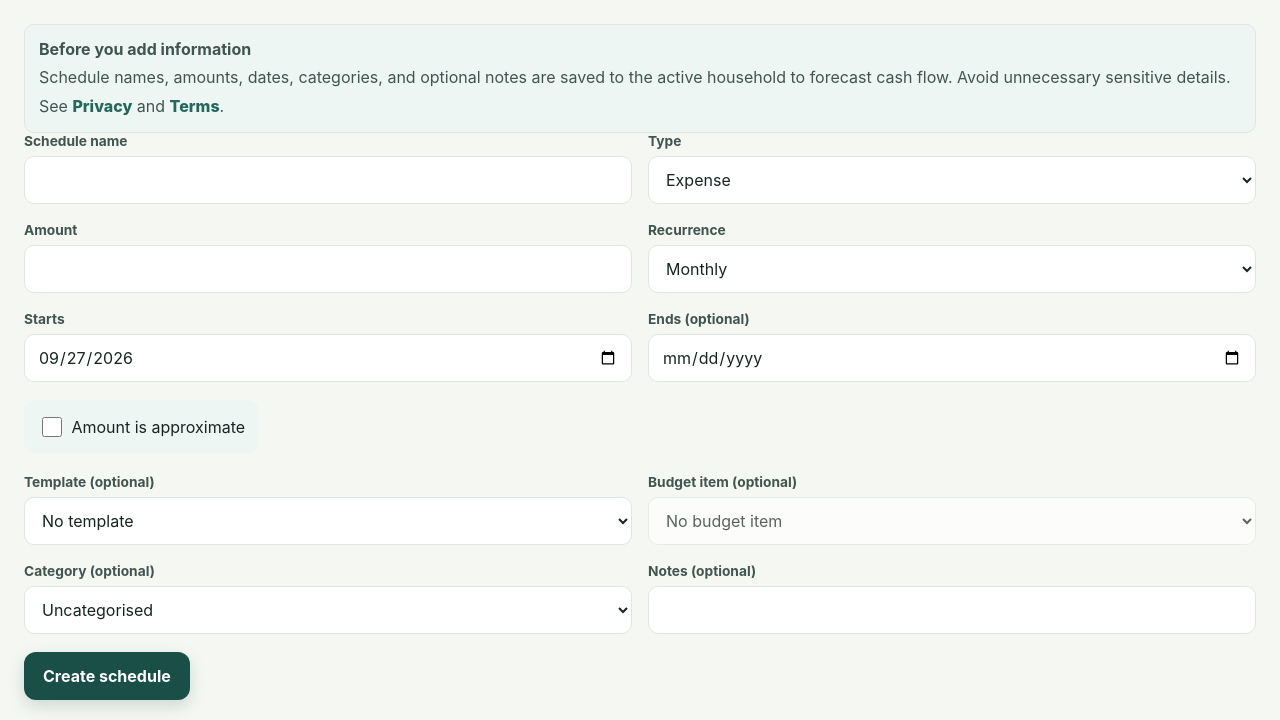
Test case: ScheduleForm › rejects a new schedule starting before today
Type "Old bill" into the field labelled "Schedule name" at (328, 180), box [24,156,632,204]
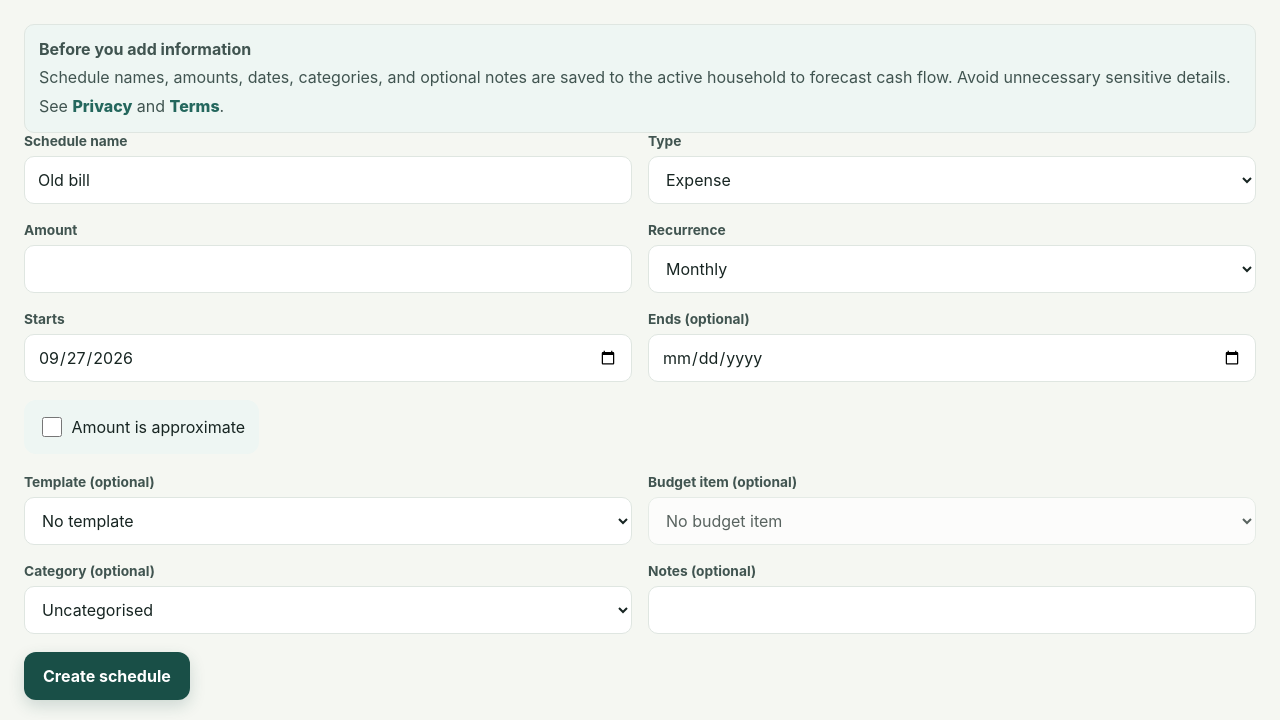
Type "25" into the field labelled "Amount" at (328, 269), box [24,245,632,293]
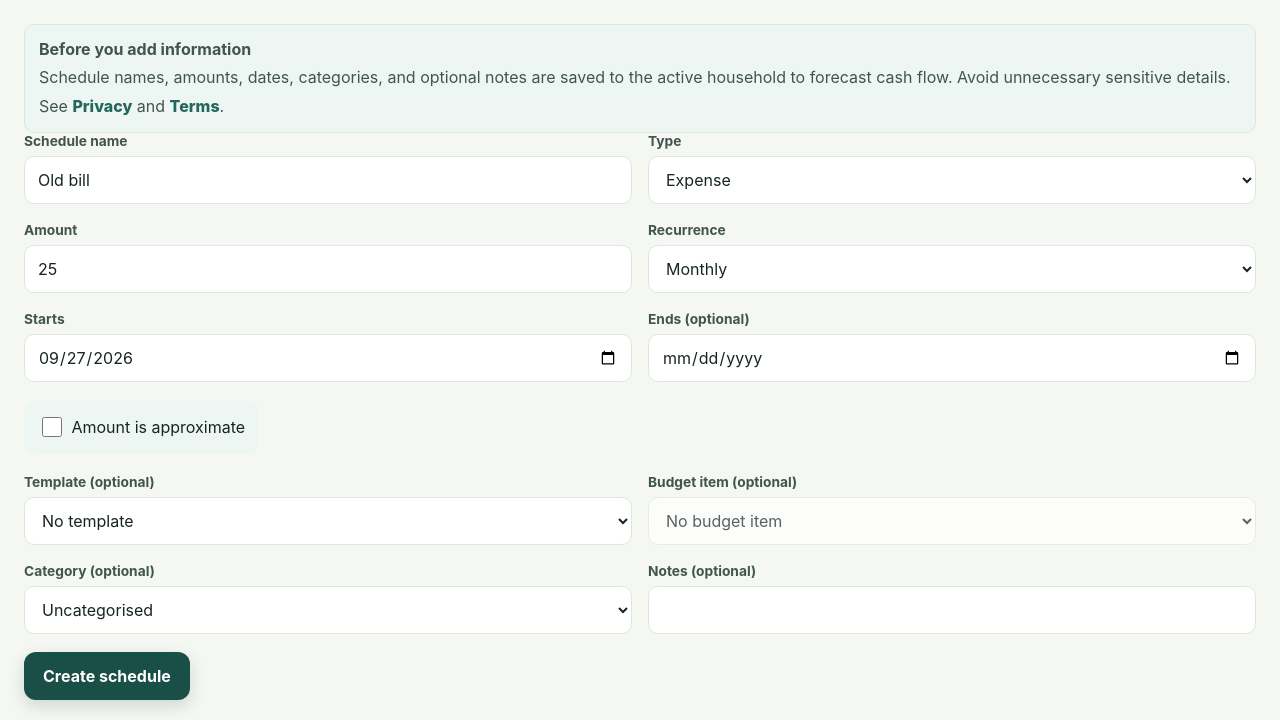
Type "2026-09-26" into the date field labelled "Starts" at (328, 358), box [24,334,632,382]
(page scrolled)
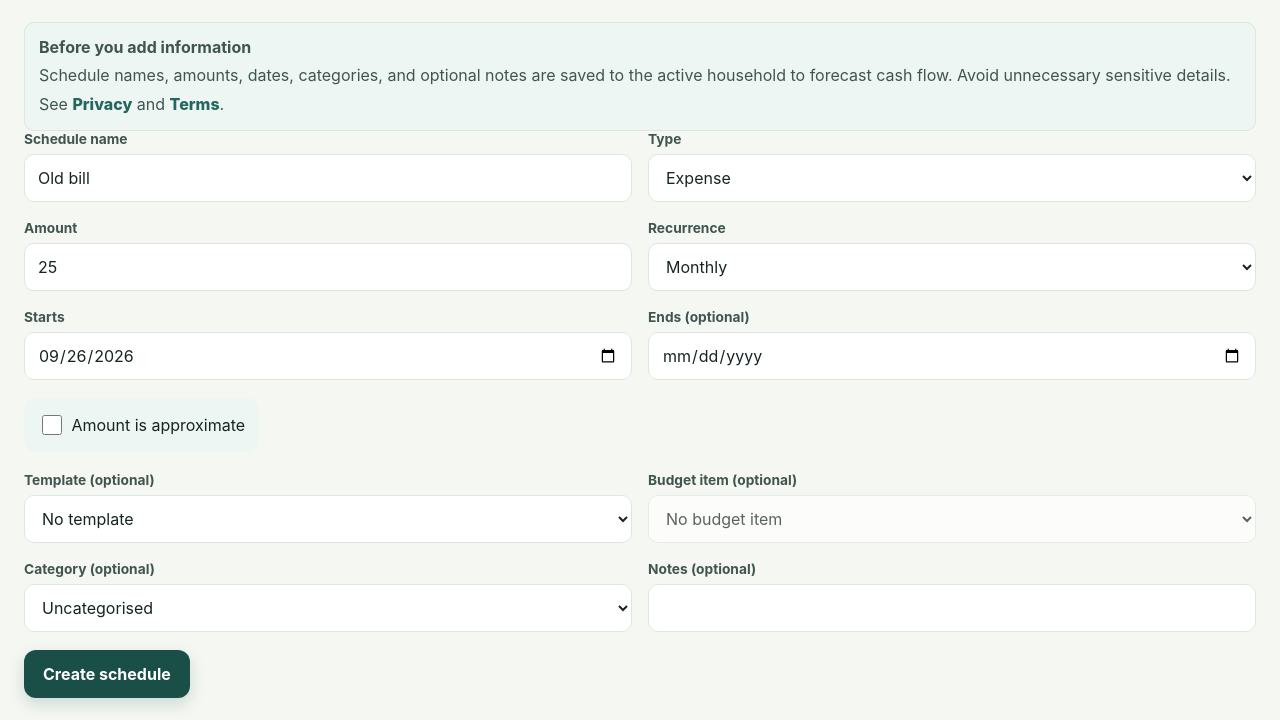
Submit the form named "Create schedule"
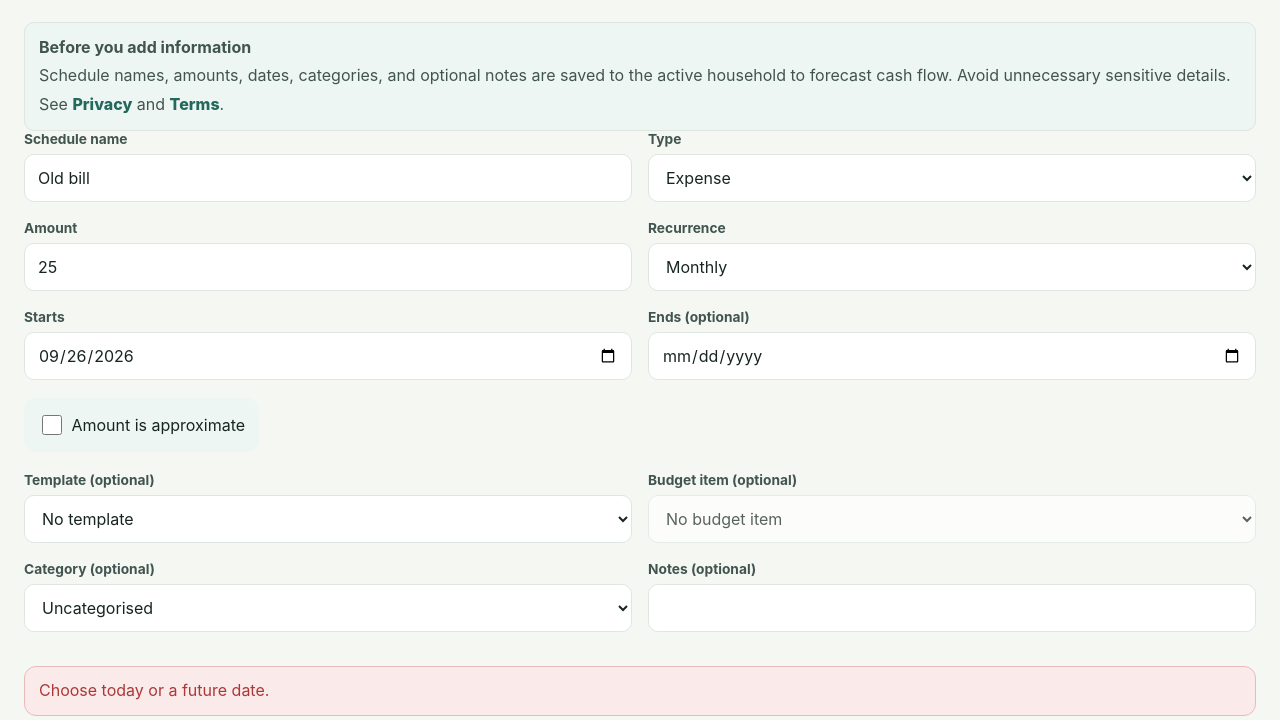
Expected: the message reads "Choose today or a future date.", [39,680,269,700]
